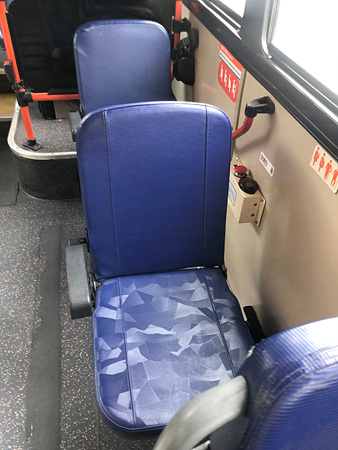seat: (77, 99, 250, 417)
